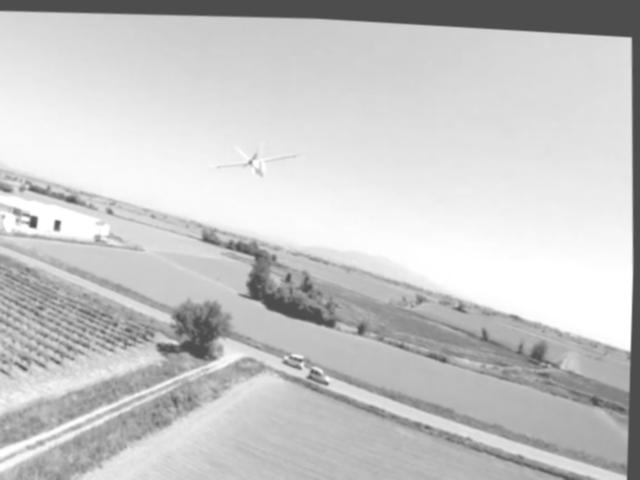hedef: (209, 130, 307, 186)
